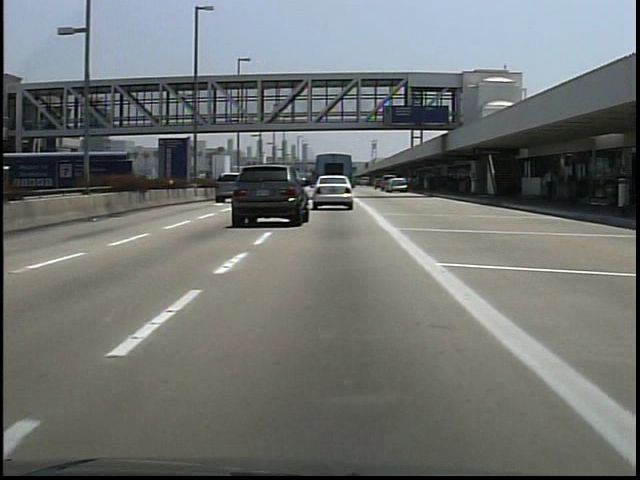person: (539, 170, 559, 207)
